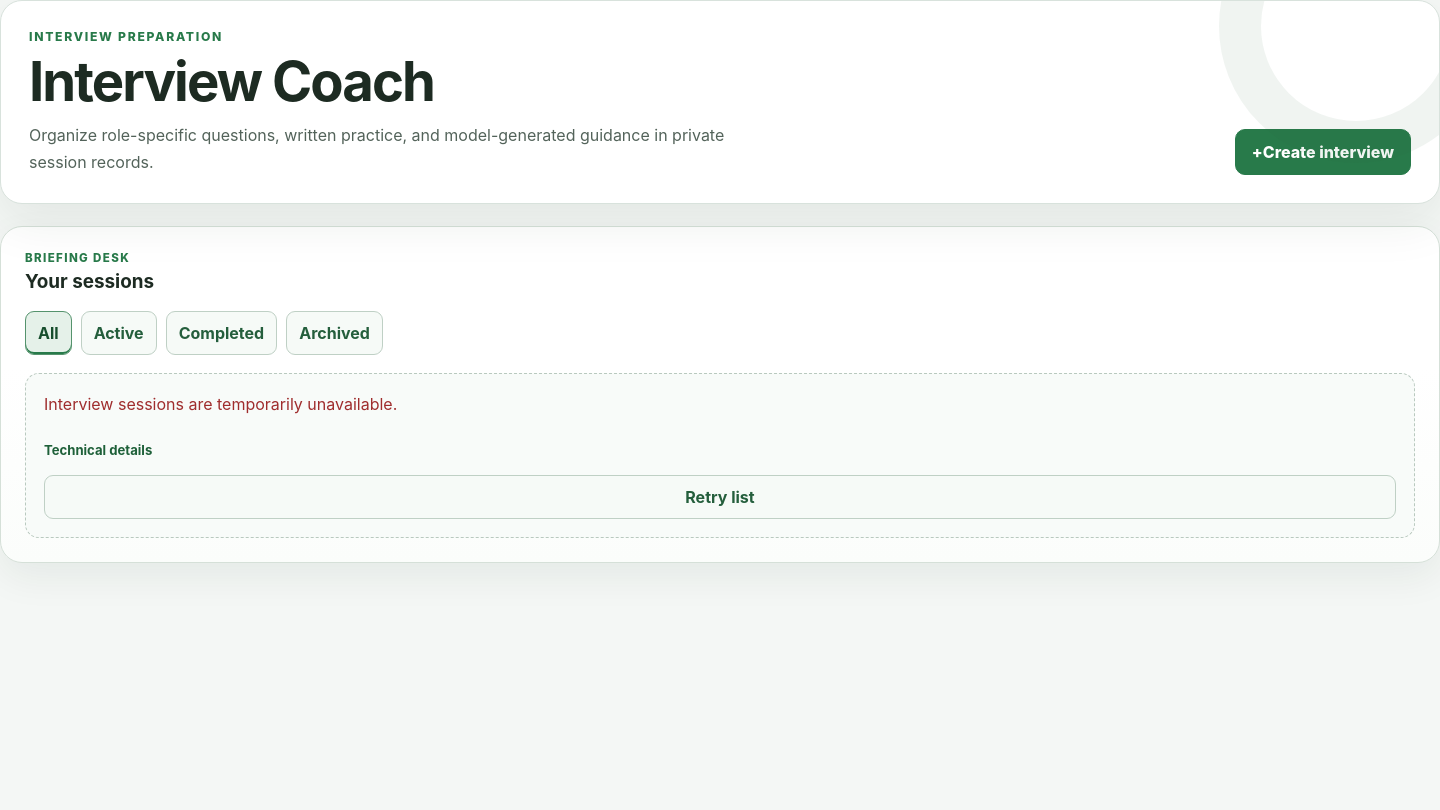
InterviewSessionListPage › shows a safe structured list error and retries
Expected: the text "Interview sessions are temporarily unavailable." is shown, [44,394,397,414]
Click the button "Retry list". click: (720, 497)
box: [44,475,1396,519]
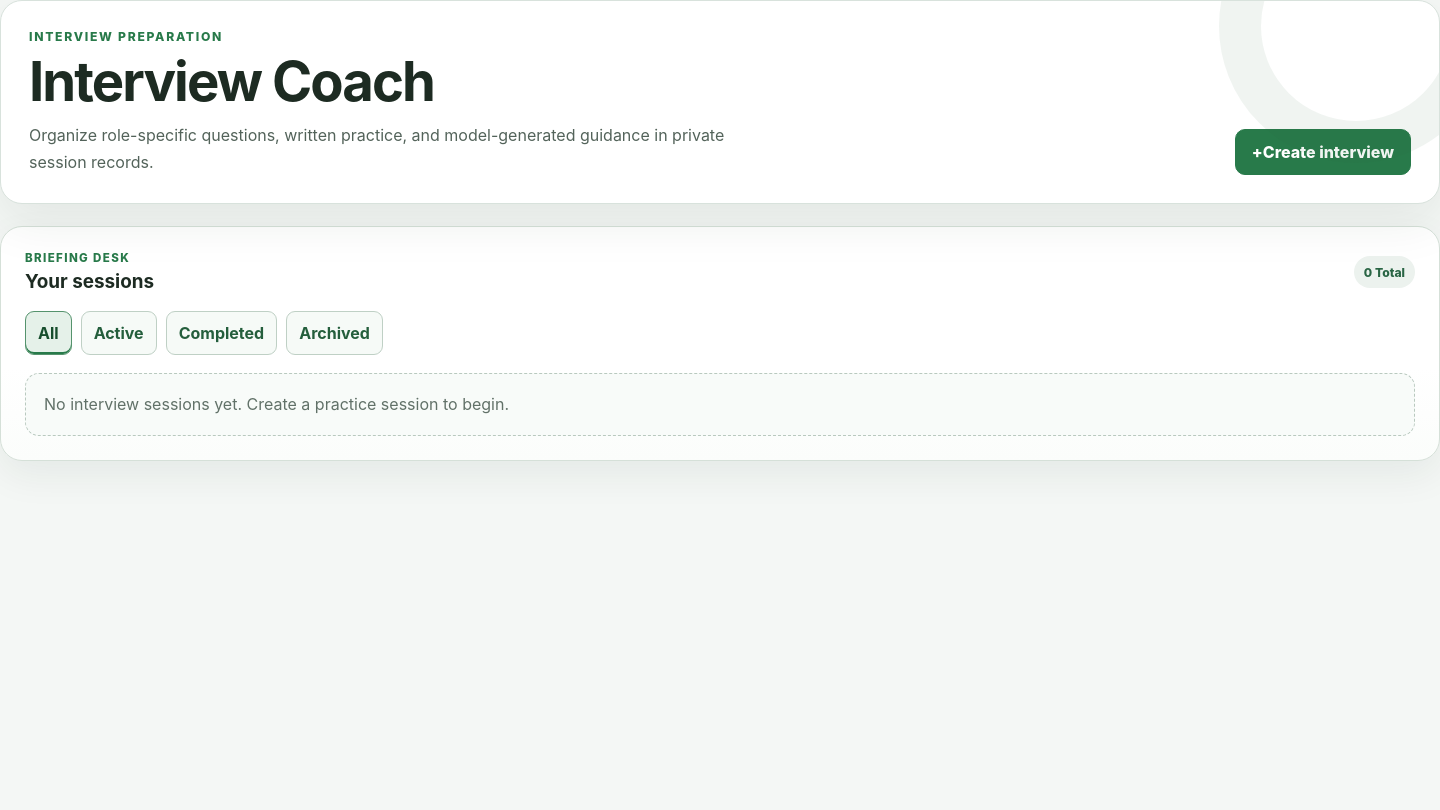
Now the text "No interview sessions yet." is shown, box [44,394,509,414]
